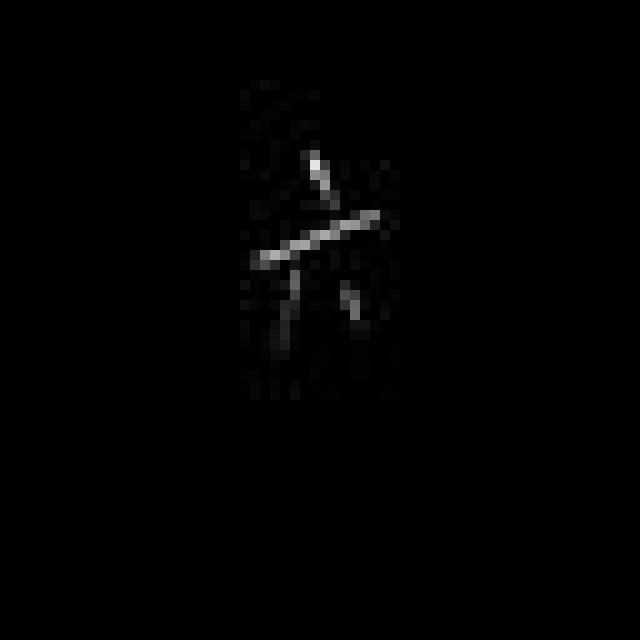6 -six-: (249, 142, 391, 338)
